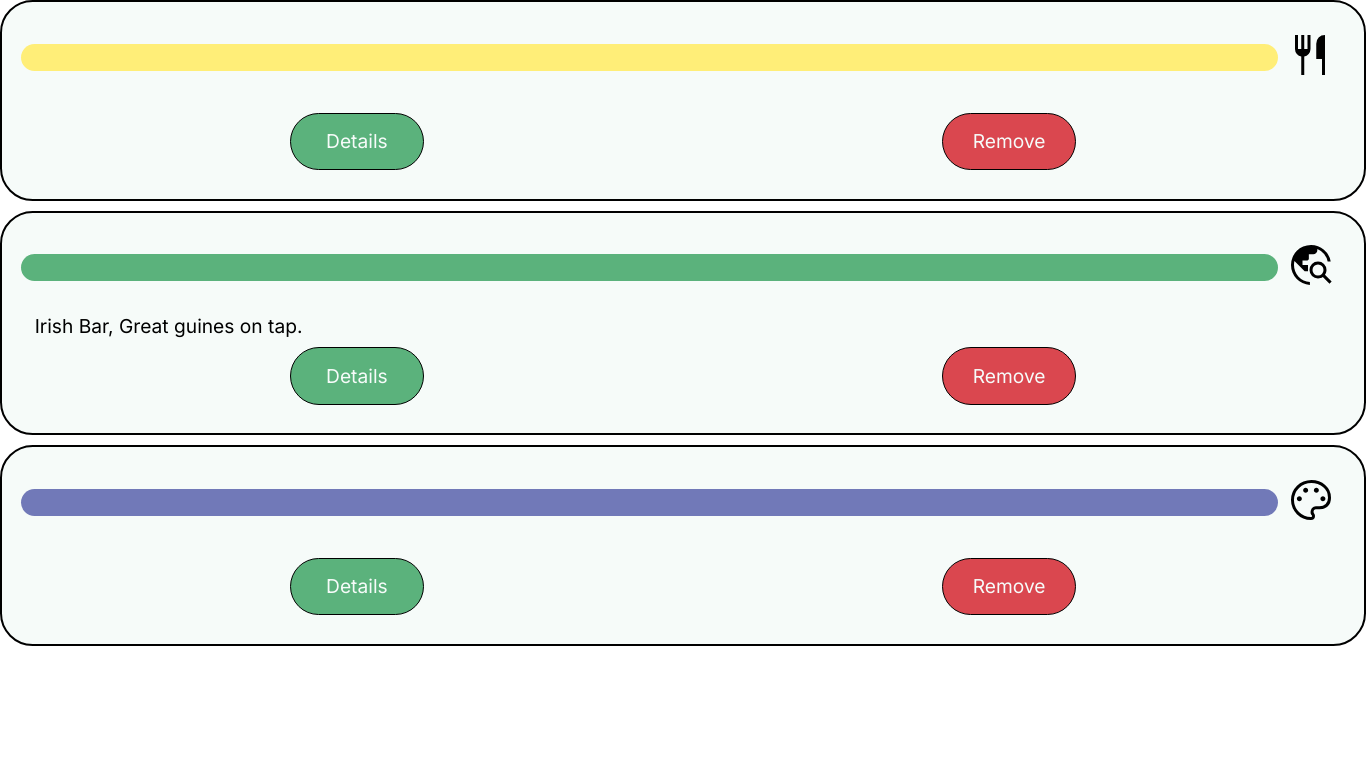
Test case: should check if the click of the details button shows the details pane
The image size is (1366, 768).
// on click of the button
Click the 1st button "Details".
click(357, 141)  # box x1=290 y1=113 x2=424 y2=170
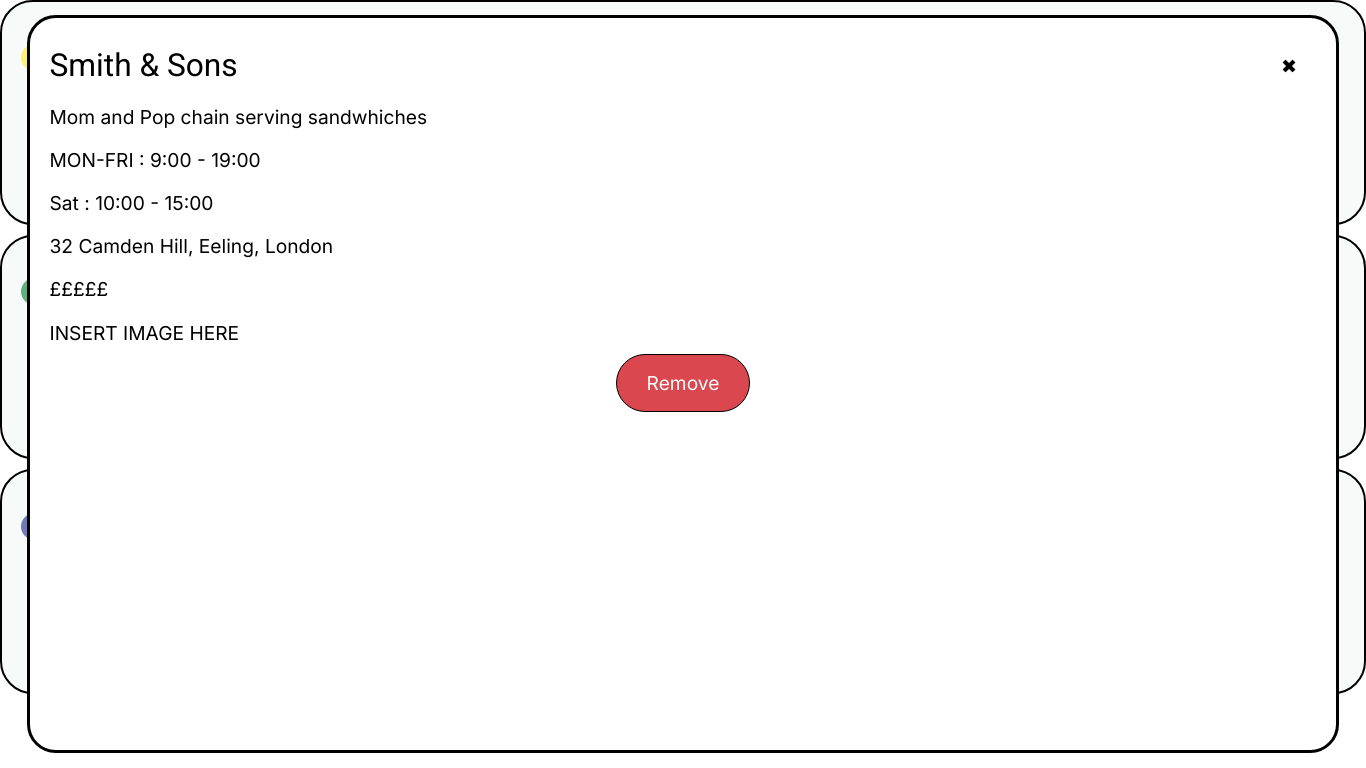
Expected: the button "✖" is shown, x1=1261 y1=38 x2=1316 y2=95
